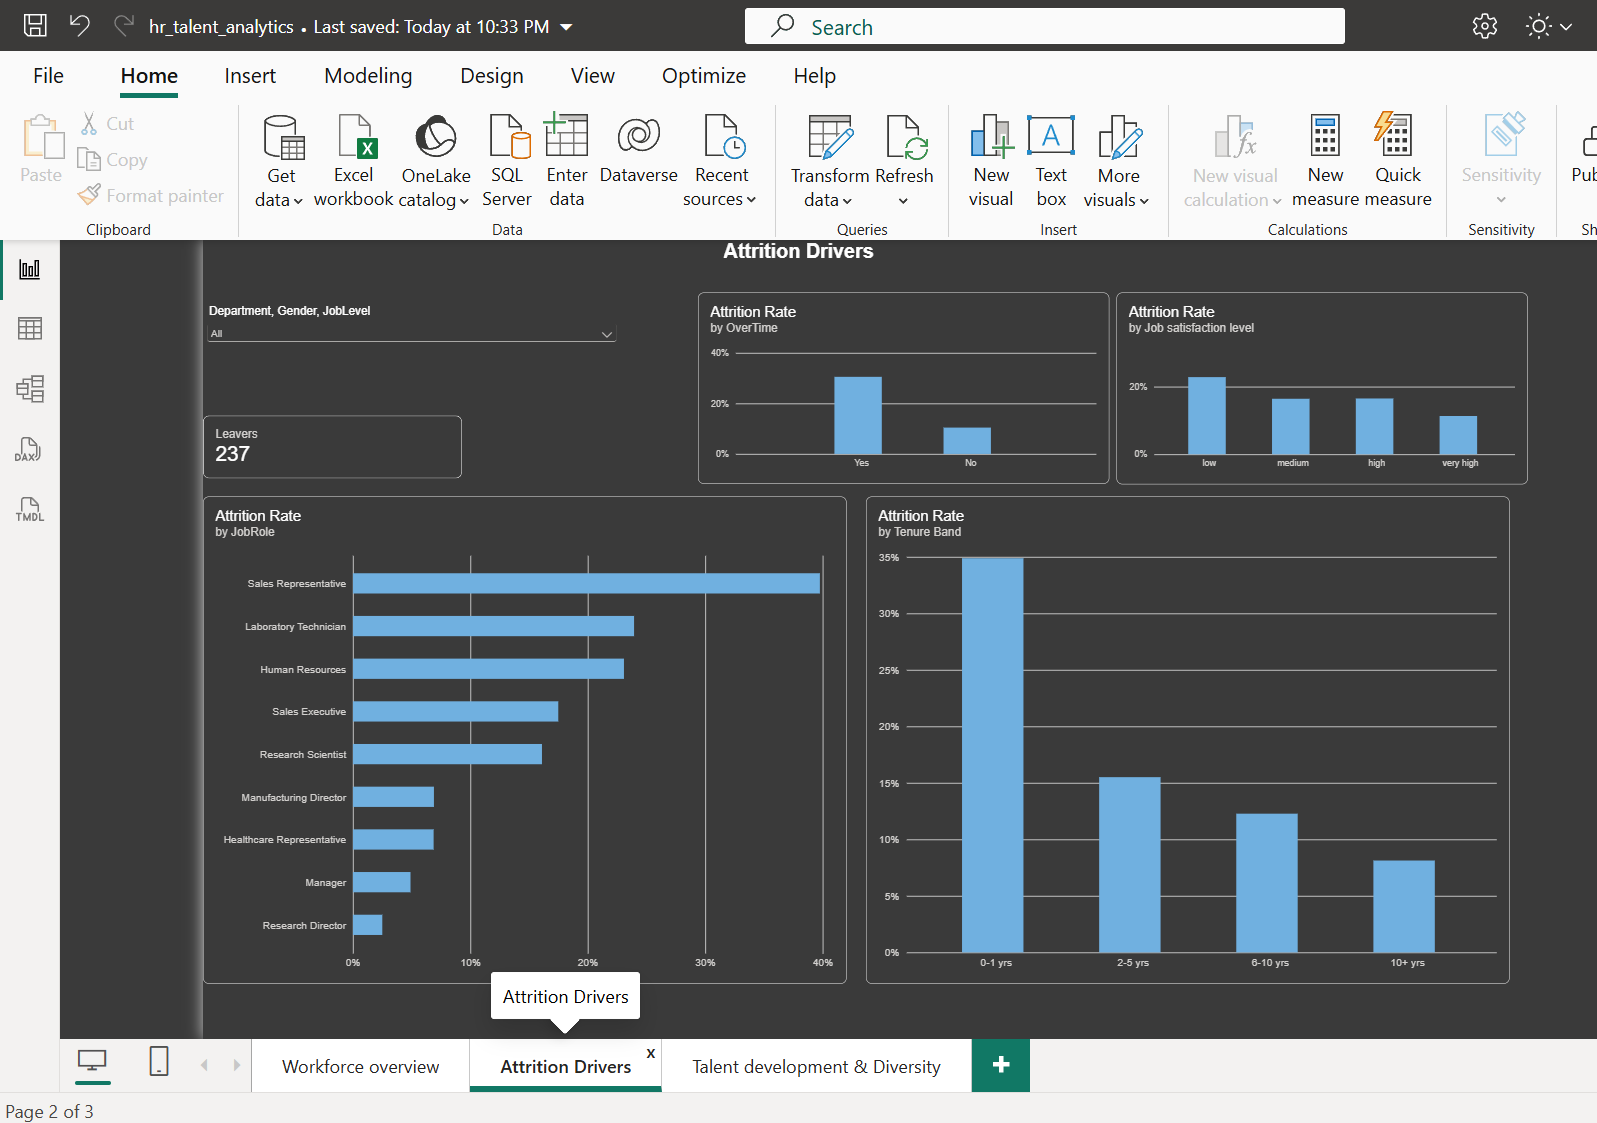

What the dashboard file says about the page in this screenshot:
{"tool":"powerbi","page":{"name":"Attrition Drivers","canvas":[1920,1080],"ordinal":1},"visuals":[{"type":"textbox","box":[702.9,0,280,58.6],"z":0},{"type":"slicer","fields":{"Values":["Employees.Department","Employees.Gender","Employees.JobLevel"]},"box":[0,87.1,564,150],"z":1},{"type":"cardVisual","fields":{"Data":["Employees.Leavers"]},"box":[0,237.1,350,85.7],"z":2},{"type":"clusteredBarChart","fields":{"Category":["Employees.JobRole"],"Y":["Employees.Attrition Rate"]},"box":[0,345.7,870,658.6],"z":3},{"type":"clusteredColumnChart","fields":{"Category":["Employees.Tenure Band"],"Y":["Employees.Attrition Rate"]},"box":[895.7,345.7,870,658.6],"z":4},{"type":"clusteredColumnChart","fields":{"Category":["Employees.OverTime"],"Y":["Employees.Attrition Rate"]},"box":[668.6,71.4,555.7,258.6],"z":5},{"type":"clusteredColumnChart","fields":{"Category":["Employees.Job satisfaction level"],"Y":["Employees.Attrition Rate"]},"box":[1235,71,556,259],"z":6}]}

Visuals, with their boxes on the page's 1920x1080 design canvas (x1, y1, x2, y2). These are canvas units, not pixel positions in the 1597x1123 screenshot, which may show the page scaled, cropped or inside an application window:
textbox: [703,0,983,59]
slicer - Employees.Department x Employees.Gender: [0,87,564,237]
cardVisual - Employees.Leavers: [0,237,350,323]
clusteredBarChart - Employees.JobRole x Employees.Attrition Rate: [0,346,870,1004]
clusteredColumnChart - Employees.Tenure Band x Employees.Attrition Rate: [896,346,1766,1004]
clusteredColumnChart - Employees.OverTime x Employees.Attrition Rate: [669,71,1224,330]
clusteredColumnChart - Employees.Job satisfaction level x Employees.Attrition Rate: [1235,71,1791,330]
